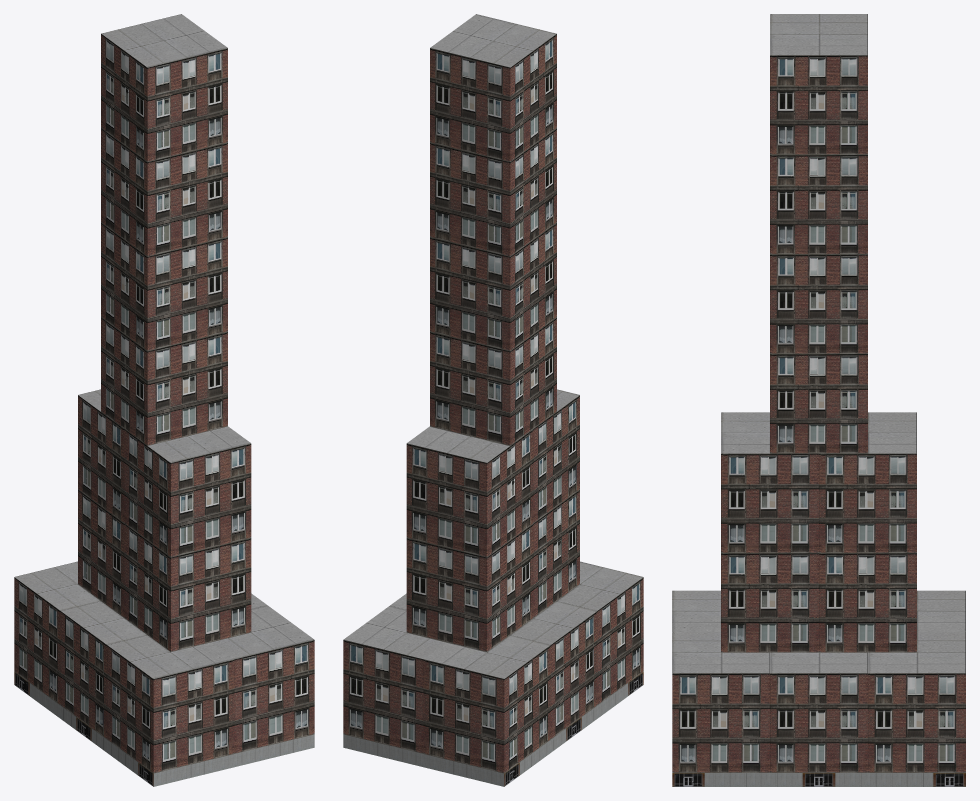
File: Building046.fbx
3 views of the same model, side by side, from view 1: azimuth 30°, elevation 25°; view 2: azimuth 150°, elevation 25°; view 3: azimuth 270°, elevation 25° (orthographic). The views are drawn at different scales.
Visible parts, largest first — view 1: Building046; view 2: Building046; view 3: Building046.
Part boxes in pixels (x1,y1,x2,y2): Building046: [14, 14, 314, 786]; Building046: [343, 14, 643, 786]; Building046: [672, 14, 965, 786].
Size of the model in its own units: 28.62 by 115 by 42.92.
